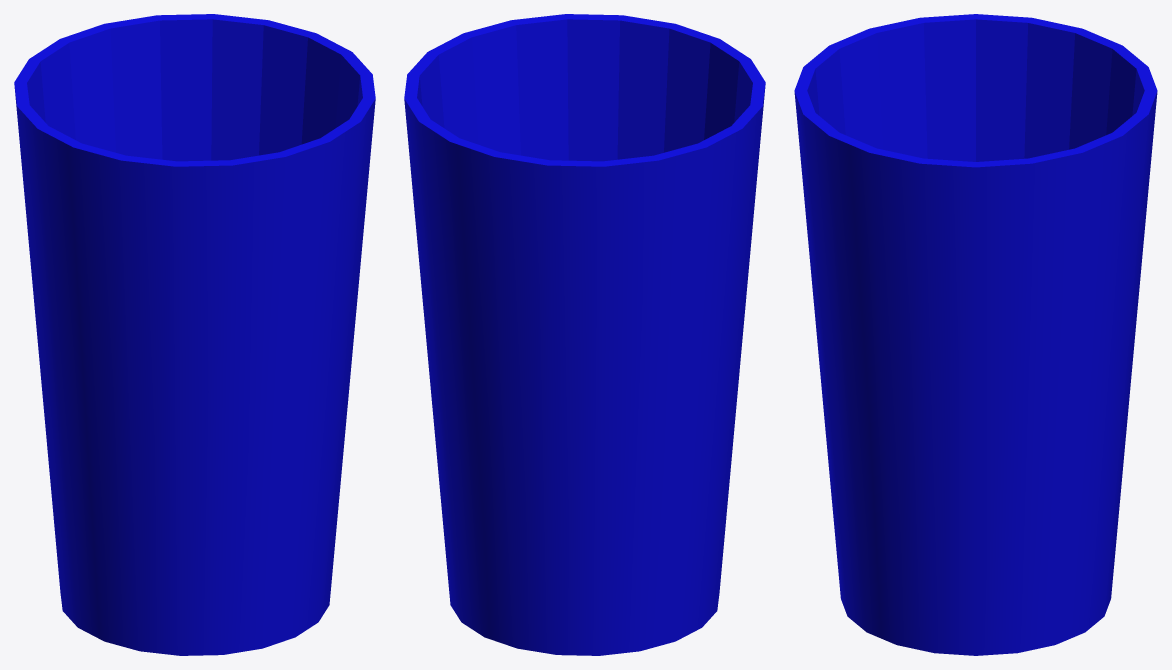
The model's file is Cup_Blue.fbx.
3 views of the same model, side by side, from view 1: azimuth 30°, elevation 25°; view 2: azimuth 150°, elevation 25°; view 3: azimuth 270°, elevation 25° (orthographic).
Visible parts, largest first — view 1: Cup_Blue; view 2: Cup_Blue; view 3: Cup_Blue.
Part boxes in pixels (bbox=[...]): Cup_Blue: bbox=[14, 14, 375, 655]; Cup_Blue: bbox=[404, 14, 765, 655]; Cup_Blue: bbox=[794, 14, 1157, 655].
Bounding box in the file's own units: 8.2 × 12.67 × 8.2.
